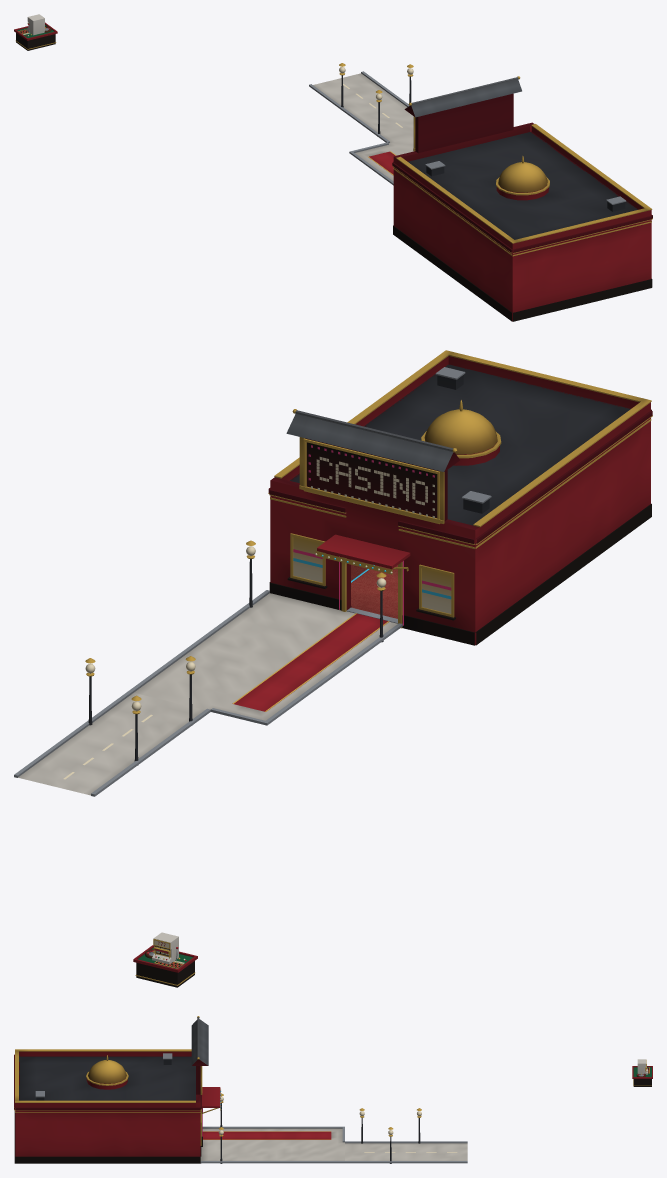
File: casino.glb
The picture shows the model from 3 angles, top to bottom: view 1: azimuth 30°, elevation 25°; view 2: azimuth 150°, elevation 25°; view 3: azimuth 270°, elevation 25°; orthographic projection. The views are drawn at different scales.
Visible parts, largest first — view 1: casinoWalls, casinoRoof, casinoFront, coastRoad, casinoYard, rouletteTable; view 2: casinoRoof, casinoFront, casinoWalls, casinoYard, casinoSign, coastRoad, casinoFloor, rouletteTable; view 3: casinoWalls, casinoRoof, casinoYard, coastRoad, casinoFront, rouletteTable.
Part boxes in pixels (x1=…): casinoWalls: x1=339, y1=63, x2=652, y2=321; casinoRoof: x1=396, y1=124, x2=652, y2=249; casinoFront: x1=393, y1=76, x2=533, y2=164; coastRoad: x1=309, y1=71, x2=413, y2=142; casinoYard: x1=349, y1=137, x2=413, y2=185; rouletteTable: x1=14, y1=22, x2=57, y2=50; casinoRoof: x1=274, y1=350, x2=651, y2=535; casinoFront: x1=269, y1=409, x2=479, y2=645; casinoWalls: x1=85, y1=364, x2=652, y2=765; casinoYard: x1=130, y1=590, x2=402, y2=725; casinoSign: x1=293, y1=438, x2=451, y2=625; coastRoad: x1=14, y1=690, x2=210, y2=796; casinoFloor: x1=351, y1=559, x2=397, y2=618; rouletteTable: x1=133, y1=945, x2=197, y2=987; casinoWalls: x1=14, y1=1054, x2=421, y2=1163; casinoRoof: x1=15, y1=1049, x2=195, y2=1107; casinoYard: x1=200, y1=1126, x2=344, y2=1163; coastRoad: x1=345, y1=1141, x2=467, y2=1163; casinoFront: x1=191, y1=1016, x2=220, y2=1156; rouletteTable: x1=632, y1=1066, x2=652, y2=1086.
Size of the model in its own units: 18.14 by 9.66 by 55.81.
Materials: 3 (1 with a texture image).
